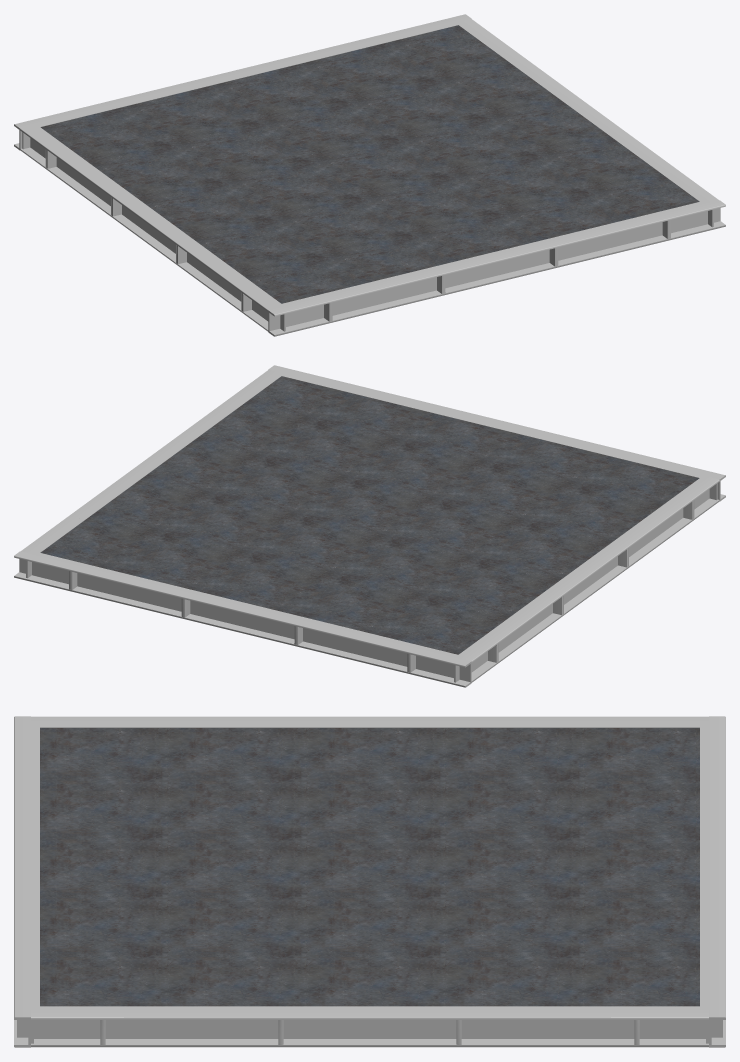
Rendered from SM_Platform_Large_B.fbx.
3 renders of one model, top to bottom at view 1: azimuth 30°, elevation 25°; view 2: azimuth 150°, elevation 25°; view 3: azimuth 270°, elevation 25°, orthographic. The views are drawn at different scales.
Visible parts, largest first — view 1: SM_Platform_Large_B_LOD0; view 2: SM_Platform_Large_B_LOD0; view 3: SM_Platform_Large_B_LOD0.
Boxes of the visible parts, x1,y1,x2,y2 form: SM_Platform_Large_B_LOD0: (14,14,725,336); SM_Platform_Large_B_LOD0: (14,365,725,687); SM_Platform_Large_B_LOD0: (14,716,725,1047).
Size of the model in its own units: 512 by 512 by 24.
